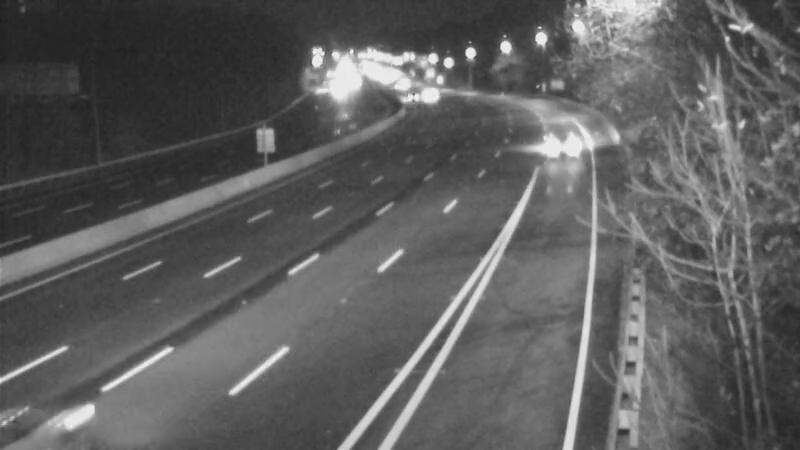vehicle: (1, 355, 105, 450), (401, 66, 451, 116), (384, 75, 434, 125), (540, 114, 590, 164)
